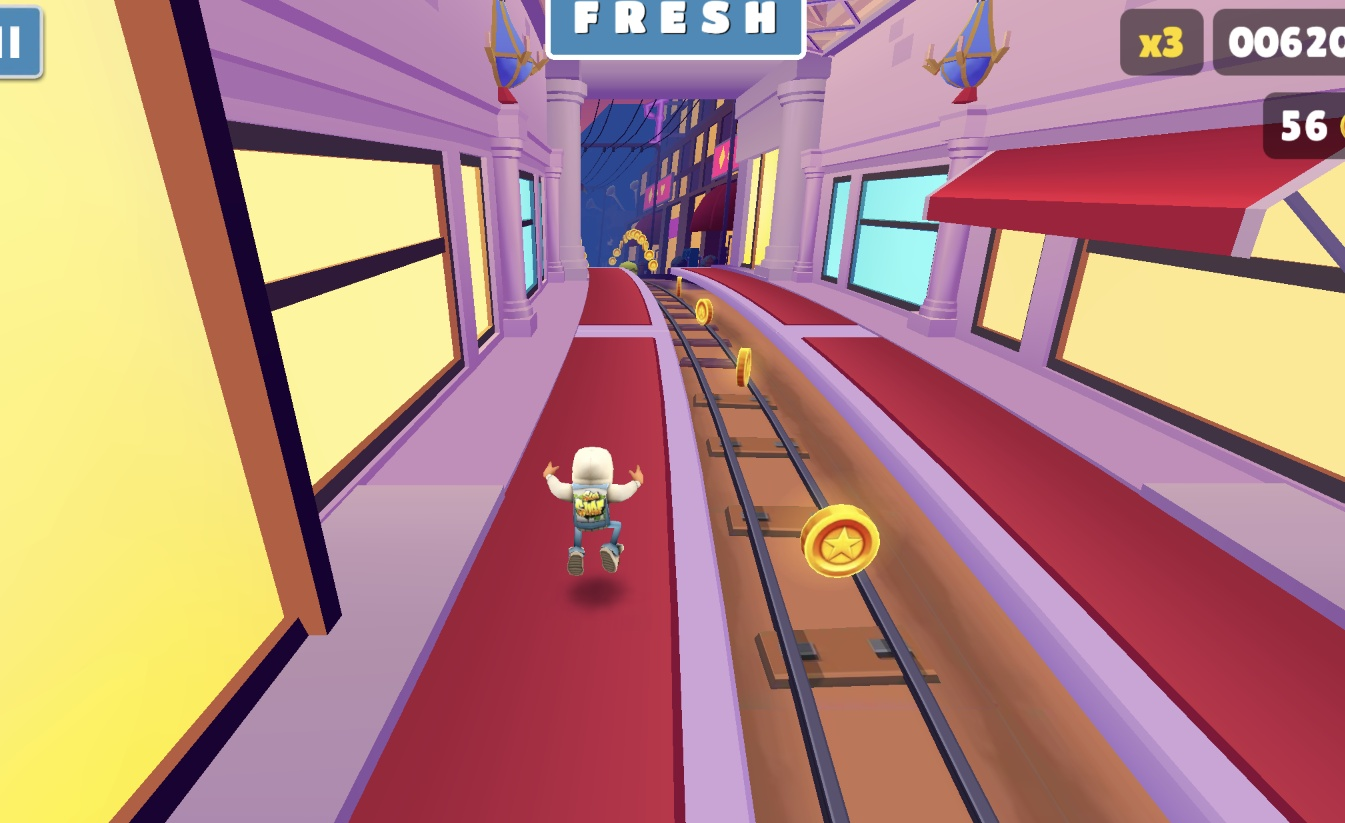bush: (618, 261, 639, 275)
